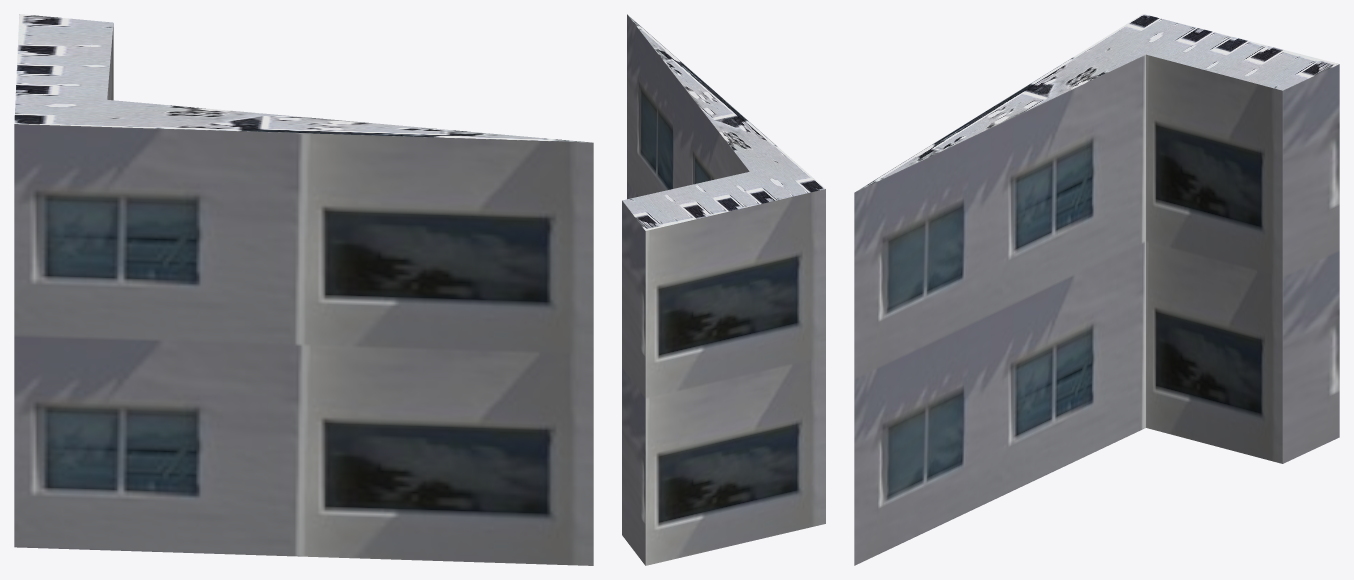
File: ResTex__4393.fbx
3 renders of one model, left to right at view 1: azimuth 30°, elevation 25°; view 2: azimuth 150°, elevation 25°; view 3: azimuth 270°, elevation 25°, orthographic. The views are drawn at different scales.
Parts seen in each view (by area): view 1: CityEngineMaterial_10_m, CityEngineMaterial_m; view 2: CityEngineMaterial_10_m, CityEngineMaterial_m; view 3: CityEngineMaterial_10_m, CityEngineMaterial_m.
Part boxes in pixels (bbox=[...]): CityEngineMaterial_10_m: bbox=[14, 23, 593, 565]; CityEngineMaterial_m: bbox=[14, 14, 591, 142]; CityEngineMaterial_10_m: bbox=[622, 14, 825, 565]; CityEngineMaterial_m: bbox=[622, 14, 825, 230]; CityEngineMaterial_10_m: bbox=[854, 54, 1339, 565]; CityEngineMaterial_m: bbox=[856, 14, 1339, 191].
Size of the model in its own units: 6.16 by 6 by 7.07.
2 materials, 2 textured.
